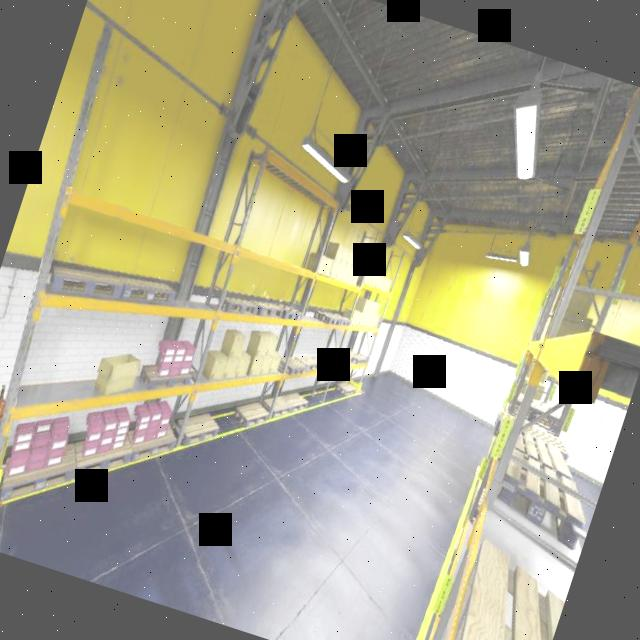box: (90, 346, 144, 405), (221, 351, 242, 381), (208, 354, 228, 383), (226, 333, 247, 360), (254, 330, 273, 357), (247, 352, 265, 378), (234, 355, 251, 379), (258, 352, 274, 376), (264, 334, 280, 356), (317, 257, 334, 276), (338, 348, 354, 367), (268, 353, 281, 375), (351, 310, 365, 326), (334, 264, 346, 281), (329, 261, 340, 279), (334, 245, 345, 262), (356, 299, 369, 313), (340, 248, 351, 264), (350, 253, 361, 268), (369, 314, 380, 329), (341, 266, 350, 283), (350, 271, 360, 286), (362, 313, 372, 328), (367, 273, 378, 286), (382, 278, 392, 292), (375, 276, 385, 290), (346, 251, 355, 266), (372, 303, 381, 316), (366, 301, 375, 314)
